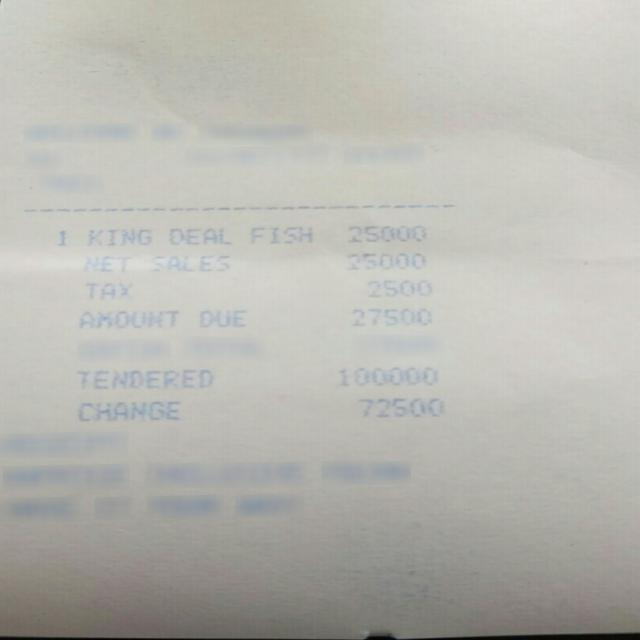text: (76, 369, 213, 389), (334, 366, 438, 386), (76, 401, 178, 421), (78, 308, 178, 328), (344, 249, 431, 270), (356, 397, 443, 417), (152, 251, 230, 272), (349, 308, 430, 326), (346, 224, 426, 241), (84, 227, 154, 245), (366, 280, 431, 296), (248, 227, 312, 243), (168, 227, 230, 243), (84, 254, 132, 273), (85, 280, 132, 298), (198, 310, 243, 326), (56, 229, 68, 247)
